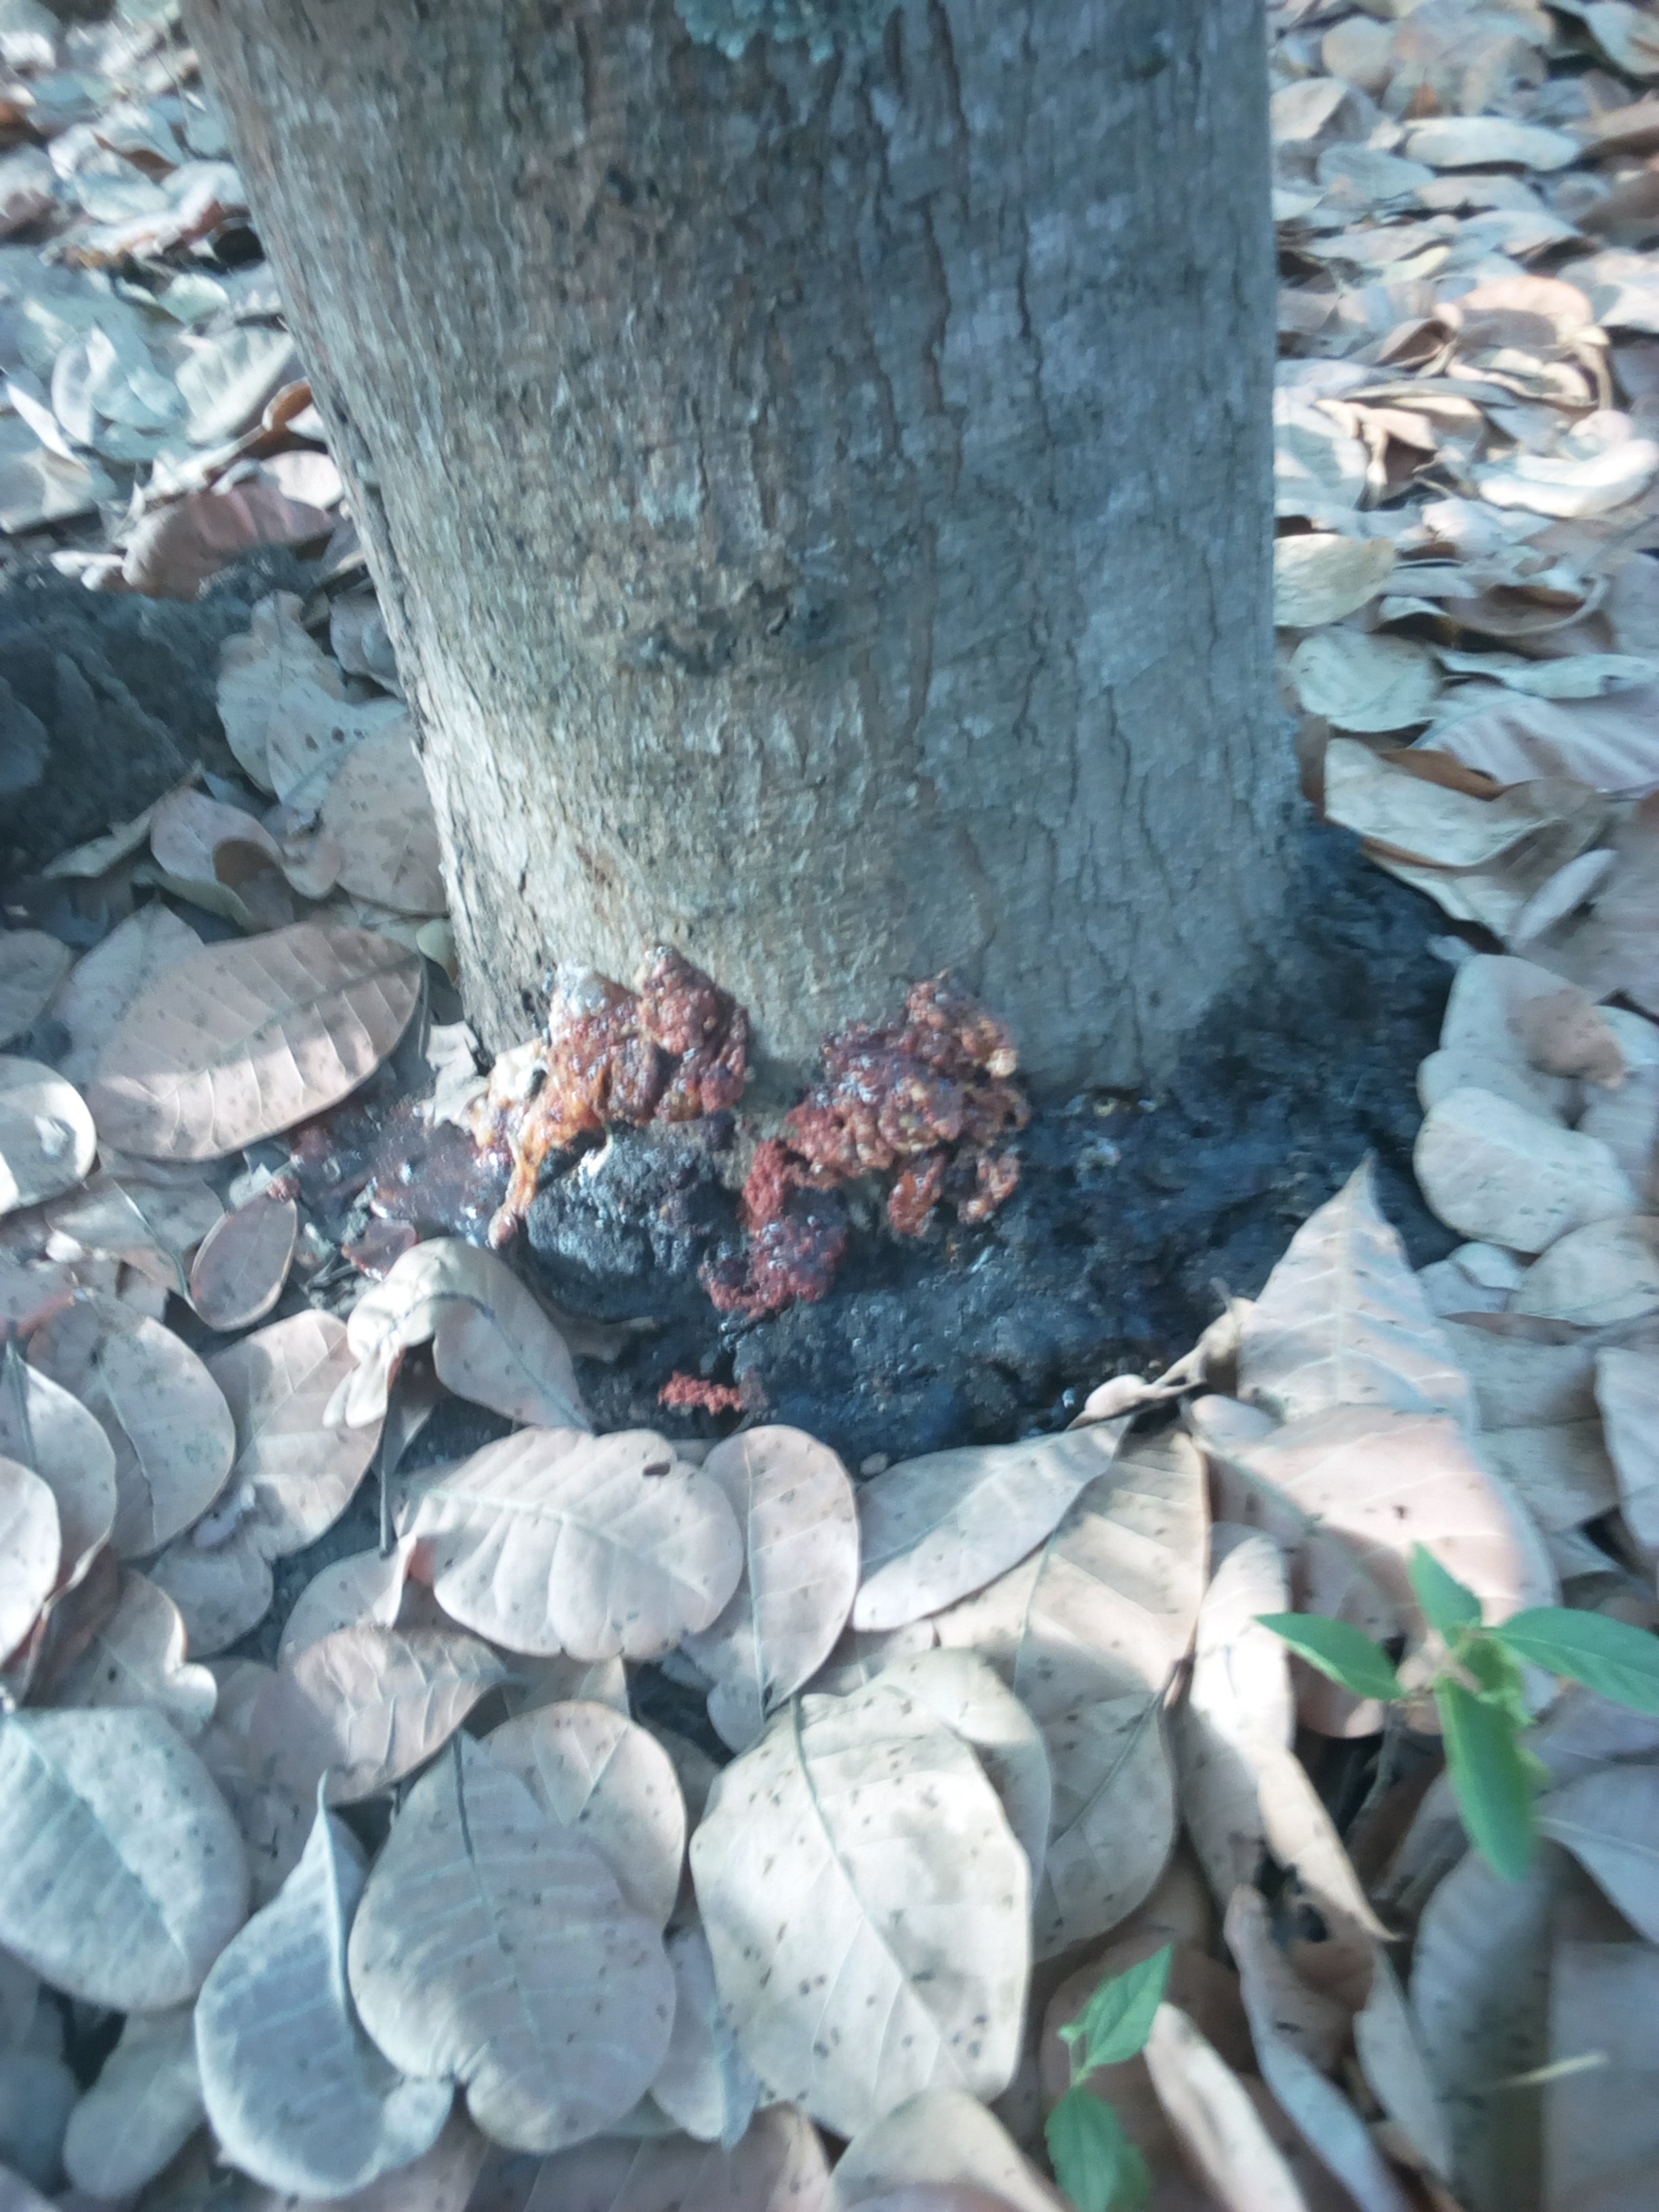Gommose: (488, 960, 1195, 1343)
